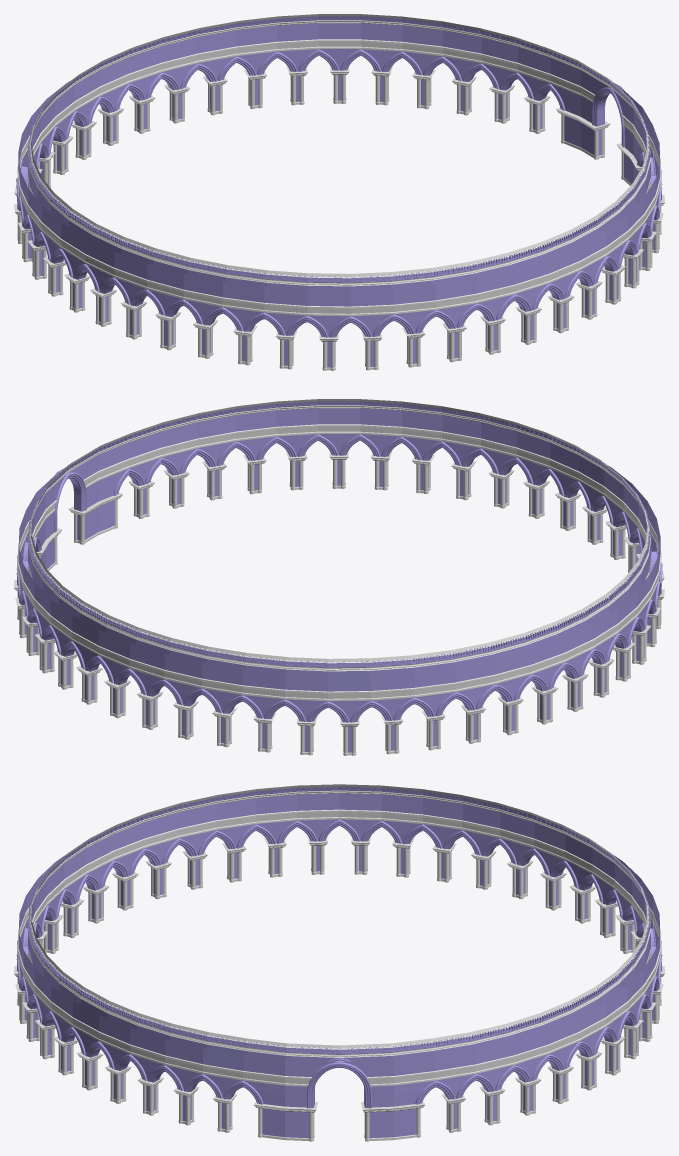
Rendered from FR L2 Arches.fbx.
The picture shows the model from 3 angles, top to bottom: view 1: azimuth 30°, elevation 25°; view 2: azimuth 150°, elevation 25°; view 3: azimuth 270°, elevation 25°; orthographic projection.
Parts seen in each view (by area): view 1: Arch Middle.023, Arch Middle.022, Arch Middle.024, Arch Middle.021, Arch Middle.025, Arch Middle.020, Arch Middle.026, Arch Middle.027, Arch Middle.019, Arch Middle.018, Arch Middle.028, Arch Middle.034 (+11 smaller); view 2: Arch Middle.023, Arch Middle.022, Arch Middle.024, Arch Middle.021, Arch Middle.025, Arch Middle.020, Arch Middle.026, Arch Middle.027, Arch Middle.019, Arch Middle.018, Arch Middle.028, Arch Middle.034 (+11 smaller); view 3: Big Arch.001, Arch End.003, Arch Middle.001, Arch Middle.015, Arch Middle.016, Arch Middle.034, Arch Middle.033, Arch Middle.032, Arch Middle.017, Arch Middle.031, Arch Middle.030, Arch Middle.018 (+11 smaller).
Part boxes in pixels (x1,y1,x2,y2): Arch Middle.023: (161, 28, 515, 354); Arch Middle.022: (197, 21, 550, 344); Arch Middle.024: (128, 37, 477, 362); Arch Middle.021: (236, 16, 581, 333); Arch Middle.025: (97, 48, 436, 367); Arch Middle.020: (277, 14, 607, 319); Arch Middle.026: (67, 61, 394, 370); Arch Middle.027: (46, 75, 350, 370); Arch Middle.019: (318, 14, 629, 304); Arch Middle.018: (360, 14, 646, 288); Arch Middle.028: (31, 91, 308, 369); Arch Middle.034: (40, 193, 95, 312); Arch Middle.023: (163, 413, 517, 739); Arch Middle.022: (128, 406, 481, 729); Arch Middle.024: (201, 422, 550, 747); Arch Middle.021: (97, 401, 442, 718); Arch Middle.025: (242, 433, 581, 752); Arch Middle.020: (71, 399, 401, 704); Arch Middle.026: (284, 446, 611, 755); Arch Middle.027: (328, 460, 632, 755); Arch Middle.019: (49, 399, 360, 689); Arch Middle.018: (32, 399, 318, 673); Arch Middle.028: (370, 476, 647, 754); Arch Middle.034: (583, 578, 638, 697); Big Arch.001: (284, 1043, 394, 1141); Arch End.003: (242, 1038, 436, 1139); Arch Middle.001: (202, 1032, 476, 1132); Arch Middle.015: (164, 1024, 514, 1125); Arch Middle.016: (129, 1013, 549, 1115); Arch Middle.034: (297, 784, 381, 874); Arch Middle.033: (256, 785, 422, 877); Arch Middle.032: (216, 789, 462, 882); Arch Middle.017: (98, 1001, 580, 1103); Arch Middle.031: (178, 795, 500, 889); Arch Middle.030: (144, 803, 534, 899); Arch Middle.018: (71, 987, 607, 1090).
Bounding box in the file's own units: 5480 × 844 × 5474.
